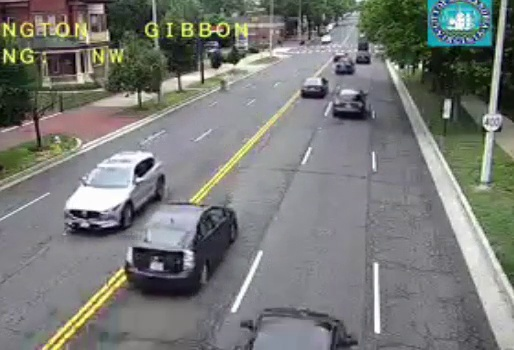car: (125, 203, 237, 288), (332, 89, 365, 116), (300, 78, 327, 97)
